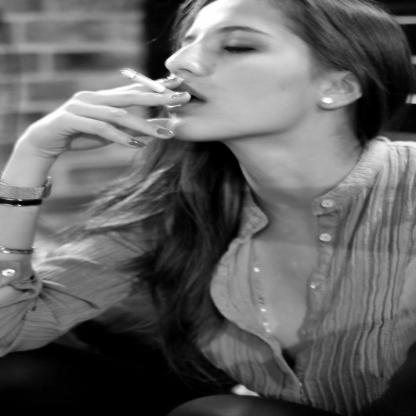smoking: (119, 68, 183, 102)
